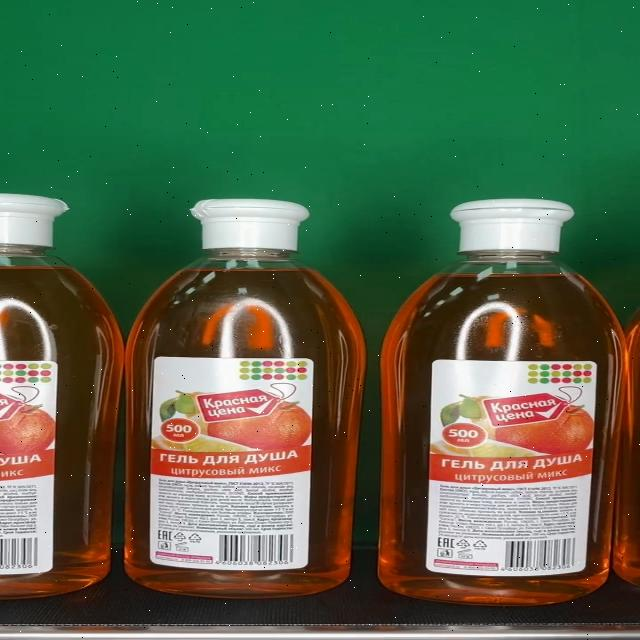Bottle: (379, 200, 630, 606), (123, 199, 368, 599)
Cap: (449, 199, 575, 252), (192, 198, 311, 250)
